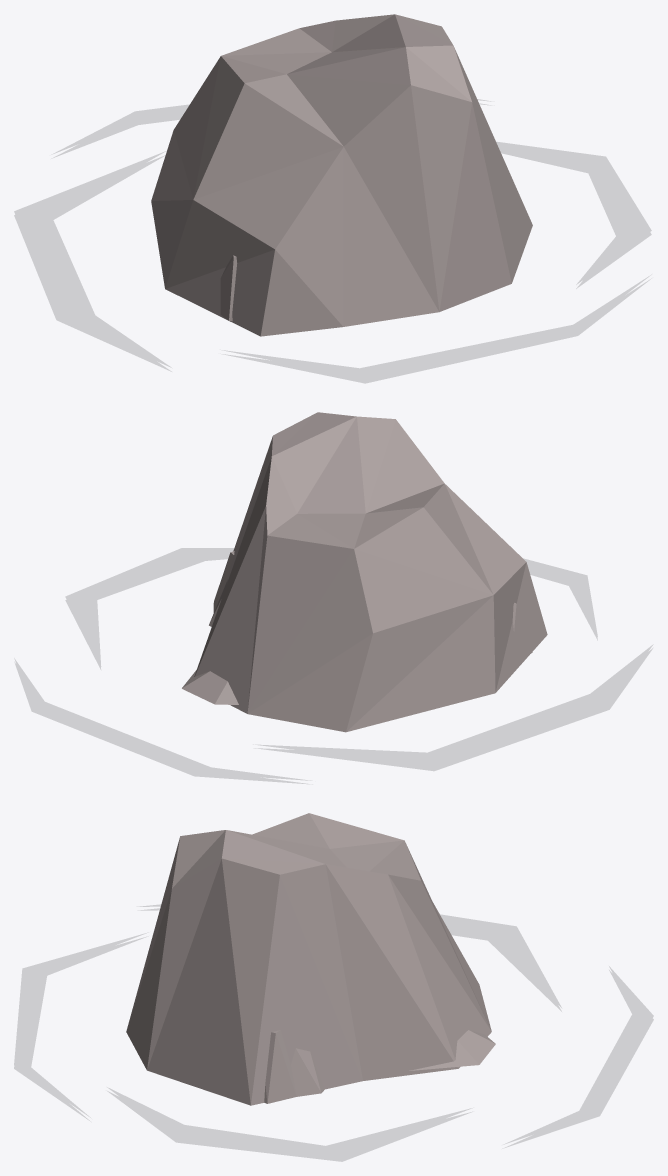
3 views of the same model, one above another, from view 1: azimuth 30°, elevation 25°; view 2: azimuth 150°, elevation 25°; view 3: azimuth 270°, elevation 25° (orthographic). The views are drawn at different scales.
Size of the model in its own units: 152 by 57 by 154.
1 material, 1 textured.
